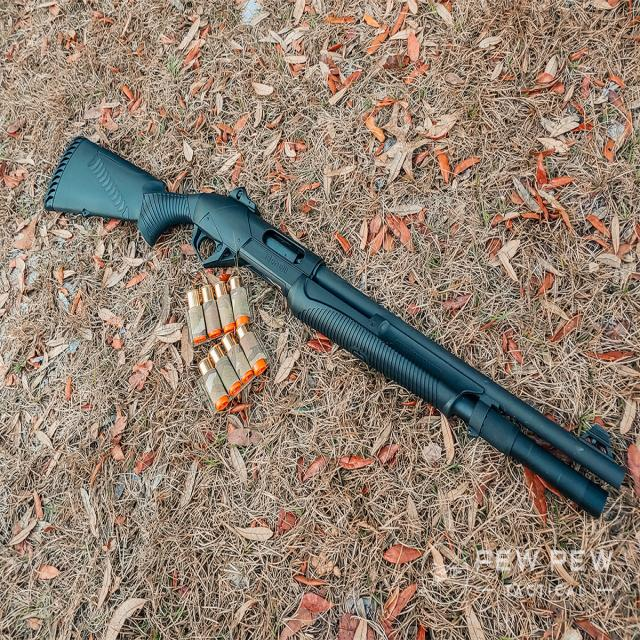ShotGun: (44, 137, 633, 518)
